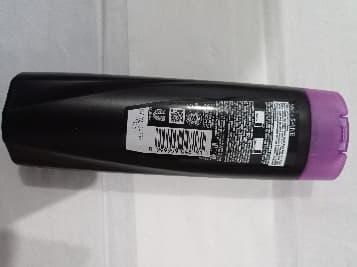Plastik: (1, 69, 353, 185)
